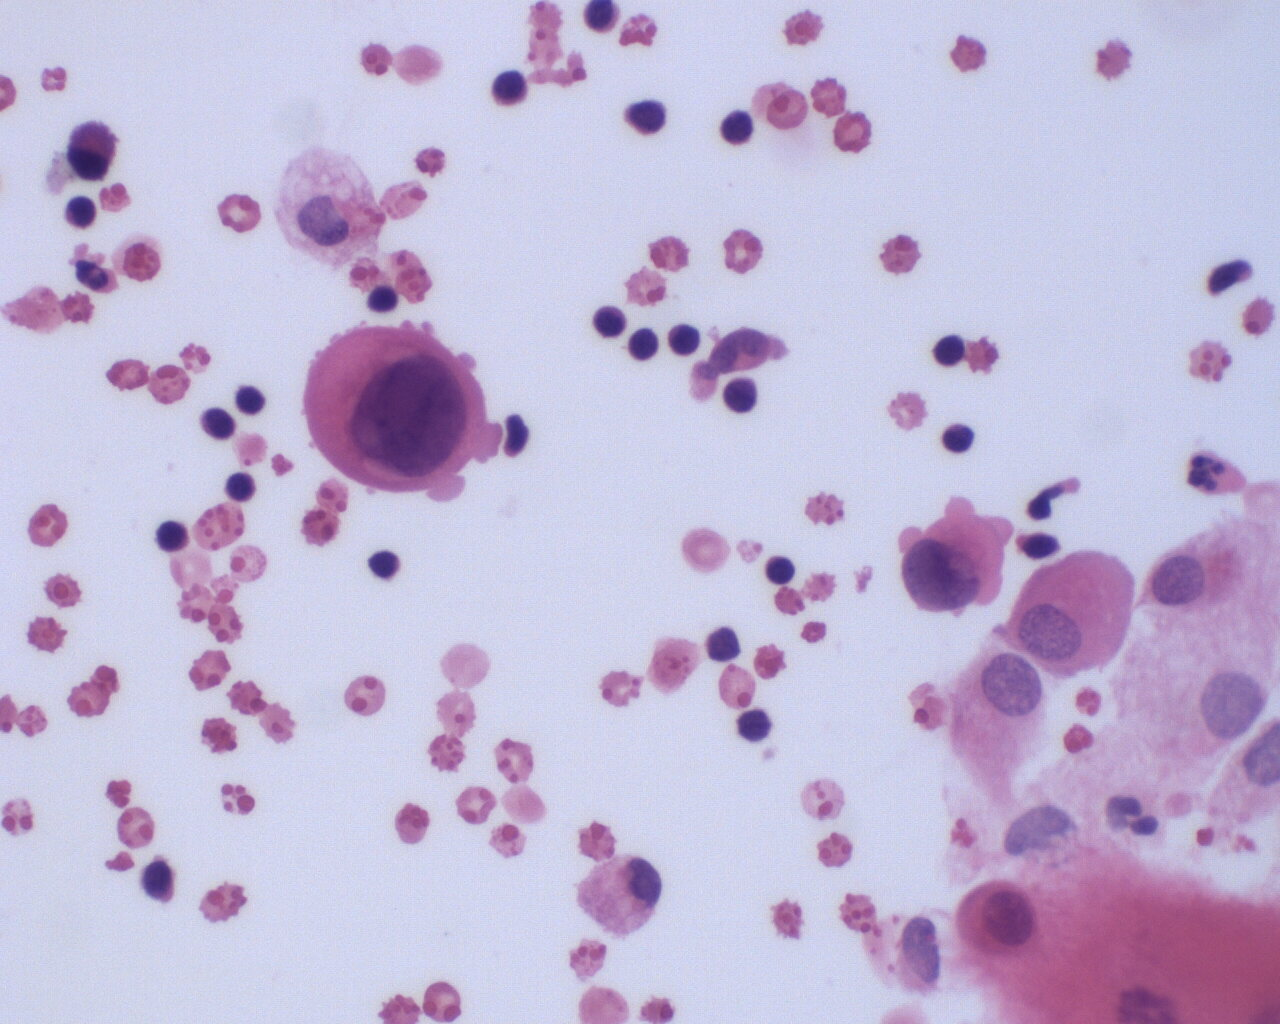ab: (299, 322, 490, 495), (893, 501, 1010, 613)
lymph: (715, 104, 763, 152), (194, 398, 241, 442), (720, 372, 764, 417), (925, 329, 968, 375), (667, 317, 705, 366), (486, 70, 531, 111), (587, 299, 628, 341), (735, 705, 775, 747), (152, 517, 190, 561), (763, 550, 801, 589), (367, 546, 405, 586)
meso: (953, 875, 1041, 965)
neutro: (1183, 447, 1234, 499), (73, 253, 127, 302)
